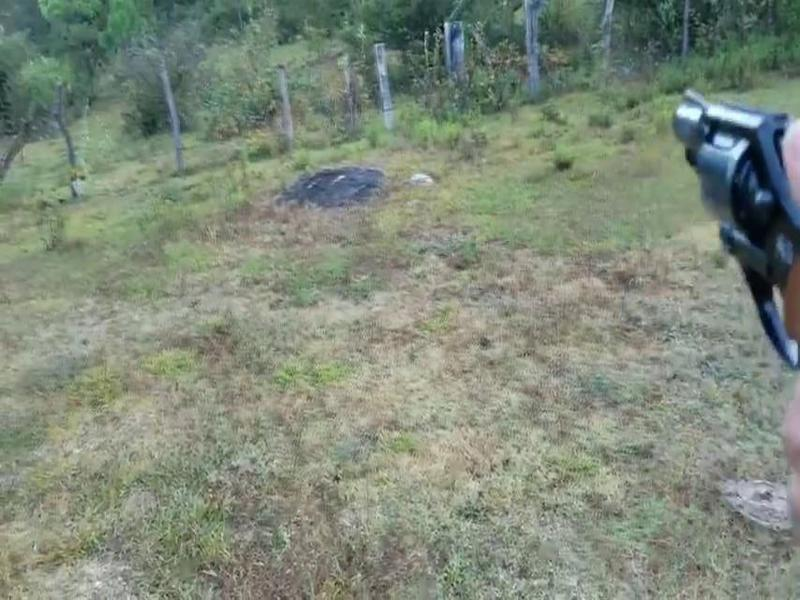Revolver: (666, 69, 800, 382)
